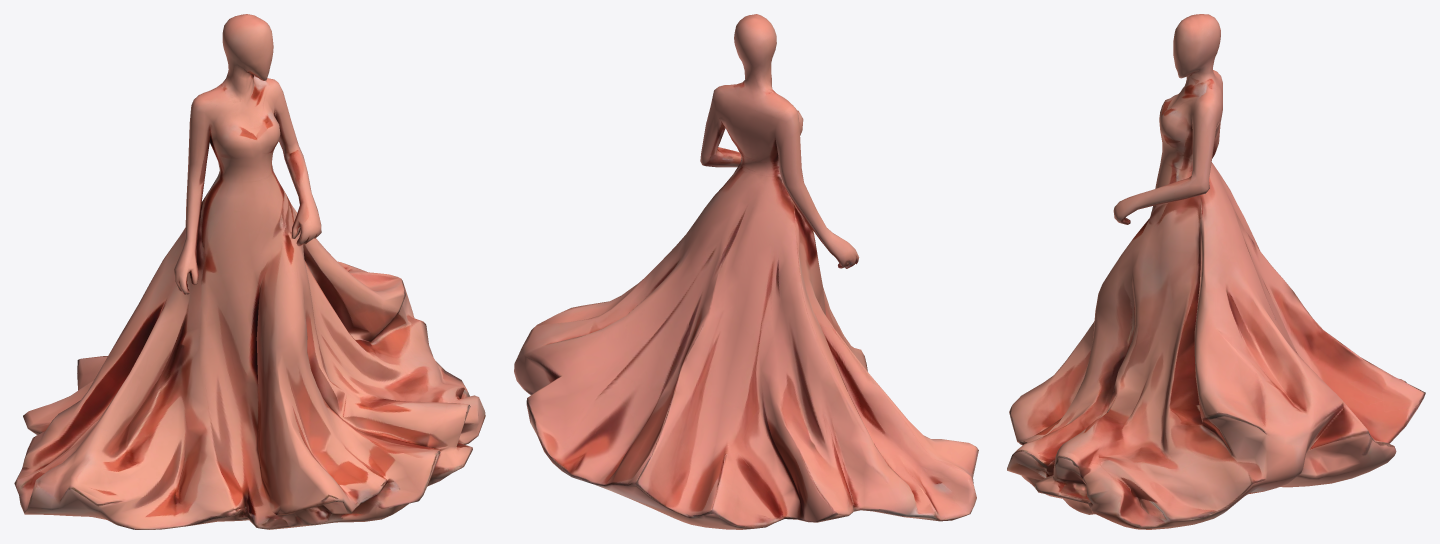
File: mannequin.glb
3 renders of one model, left to right at view 1: azimuth 30°, elevation 25°; view 2: azimuth 150°, elevation 25°; view 3: azimuth 270°, elevation 25°, orthographic. The views are drawn at different scales.
Size of the model in its own units: 1.97 by 2 by 1.7.
1 material, 1 textured.
